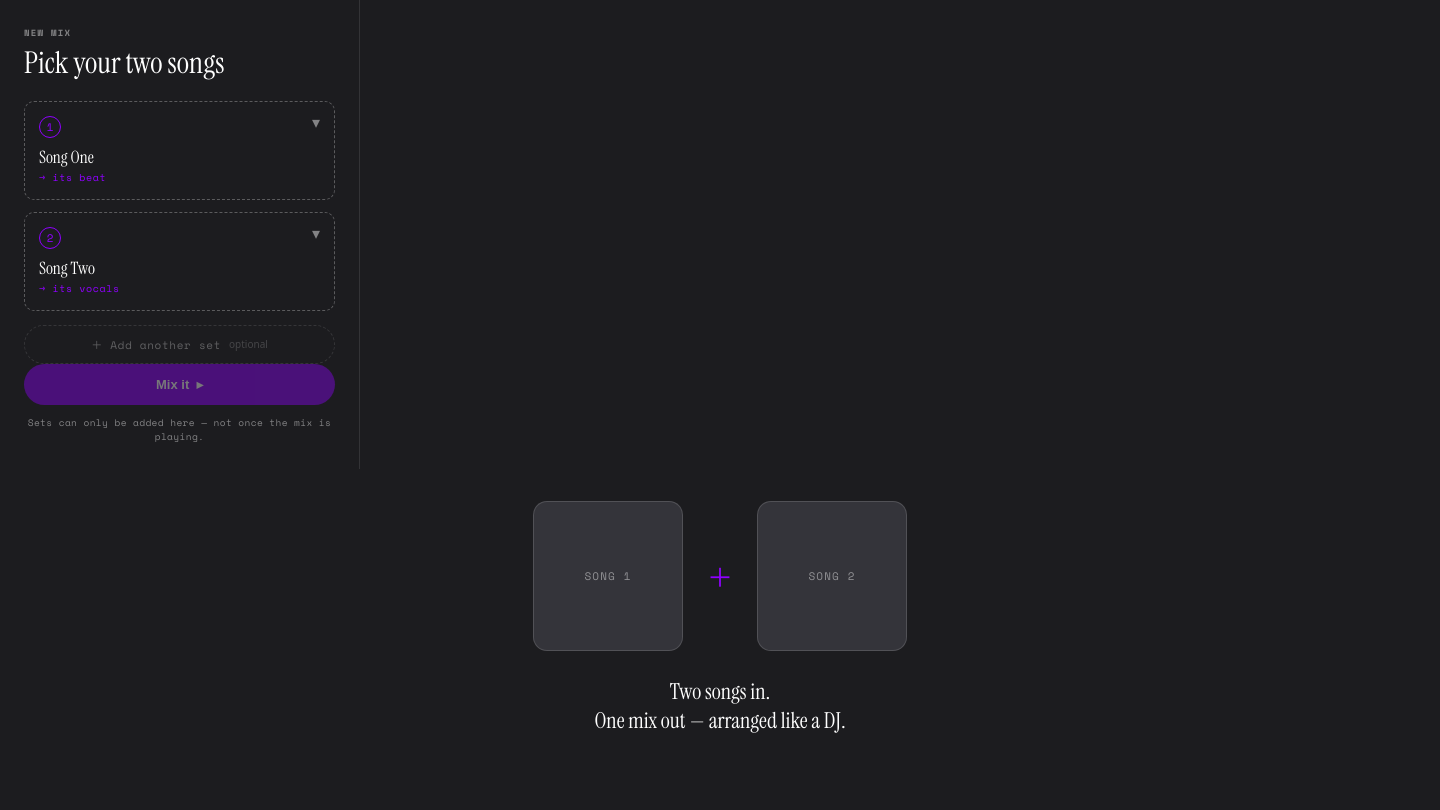
Test case: adding a second mix shows a running order and switches the button to 'Build the set'
The width and height of the screenshot is (1440, 810).
Click the button with test id "song-slot-1".
click(66, 156)  # box [24,100,335,200]
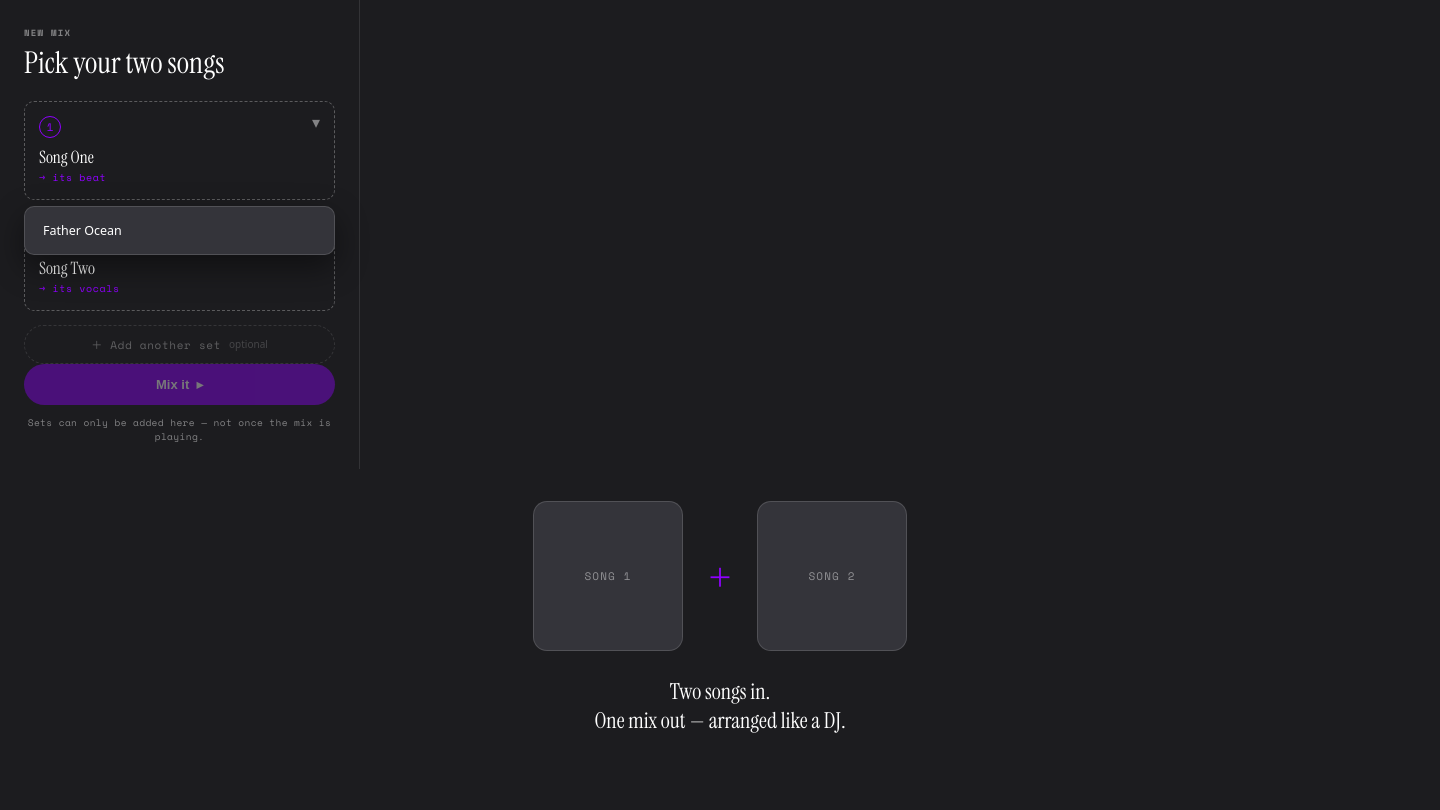
Click the option "Father Ocean".
click(82, 230)  # box [31,212,328,248]
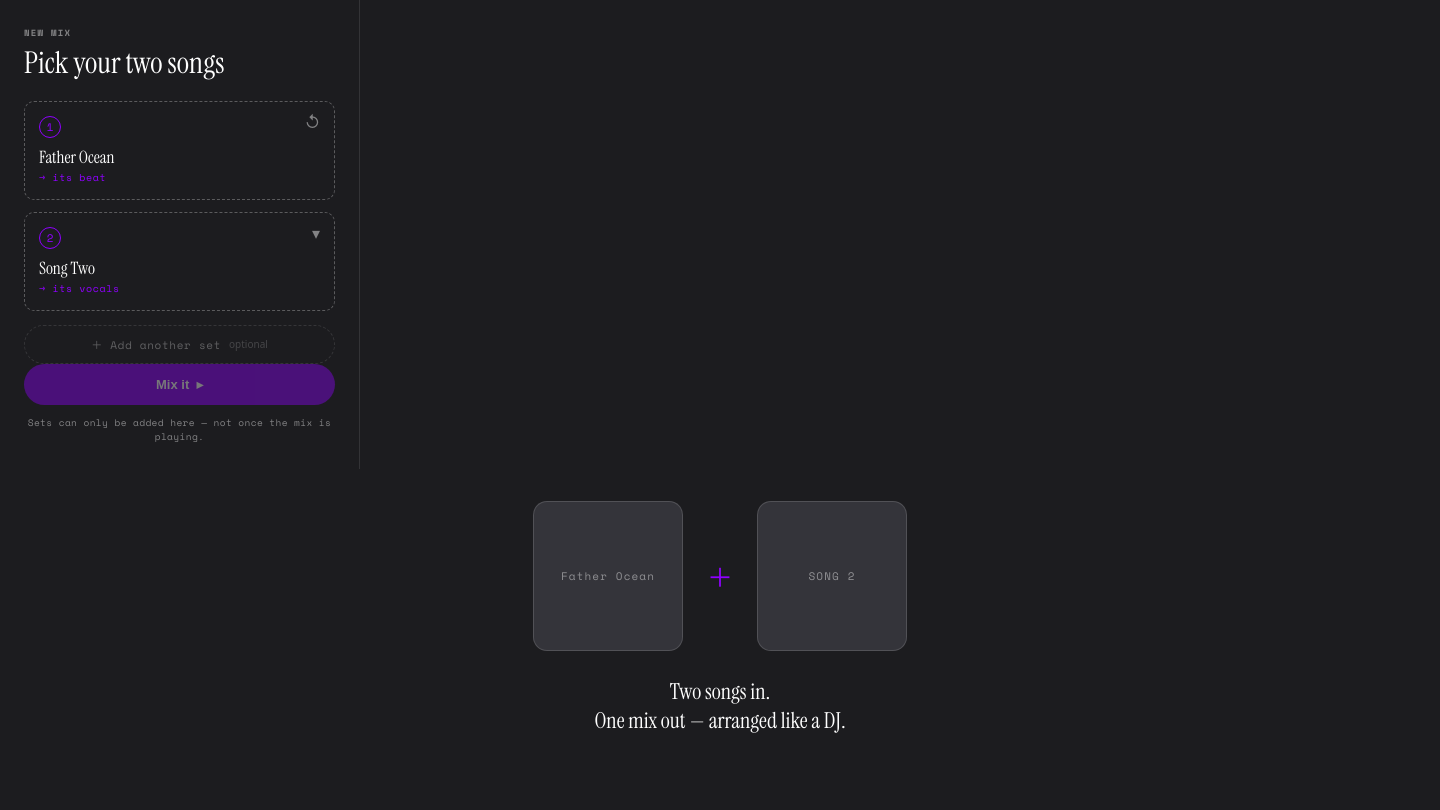
Click the button with test id "song-slot-2".
click(67, 268)  # box [24,212,335,310]
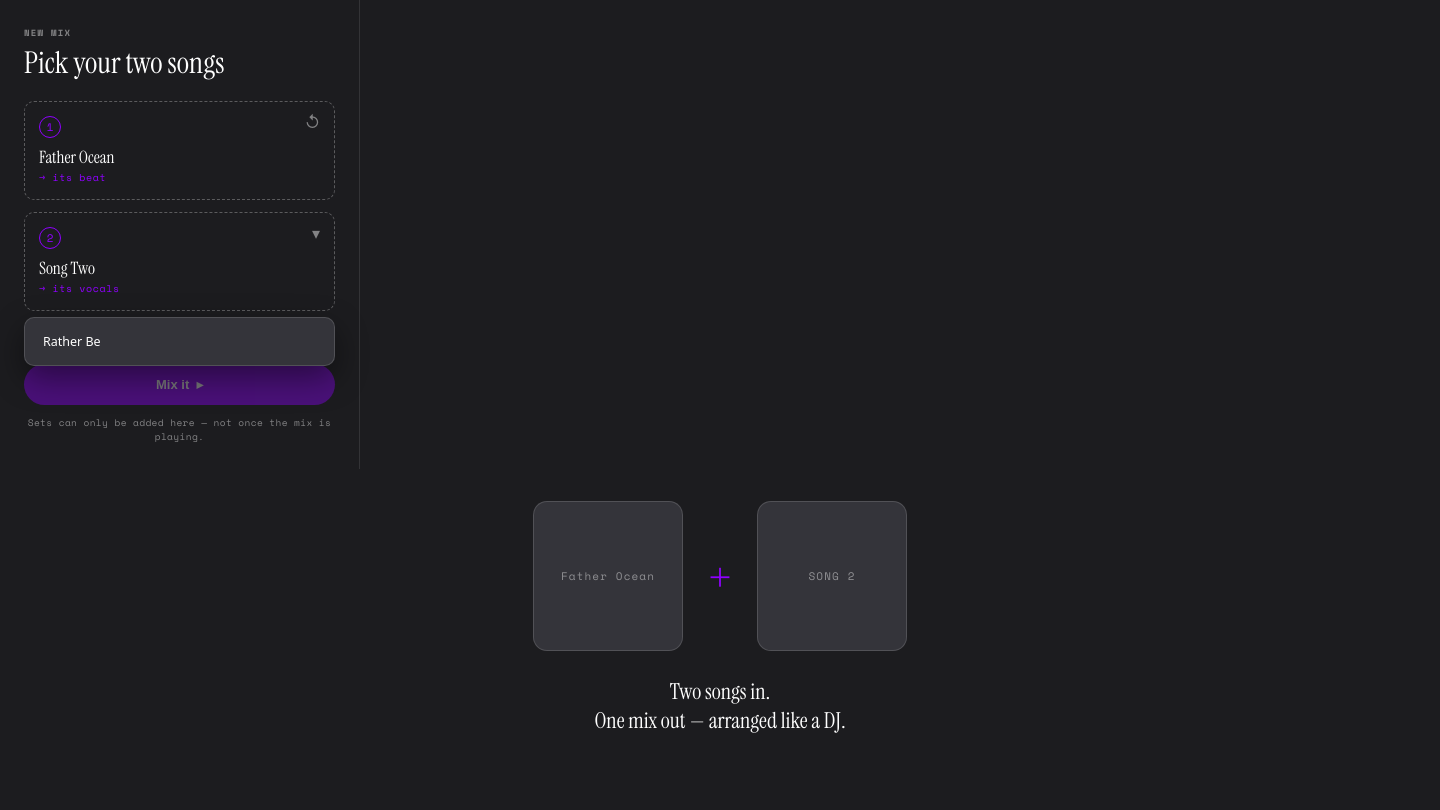
Click the option "Rather Be".
click(72, 341)  # box [31,324,328,358]
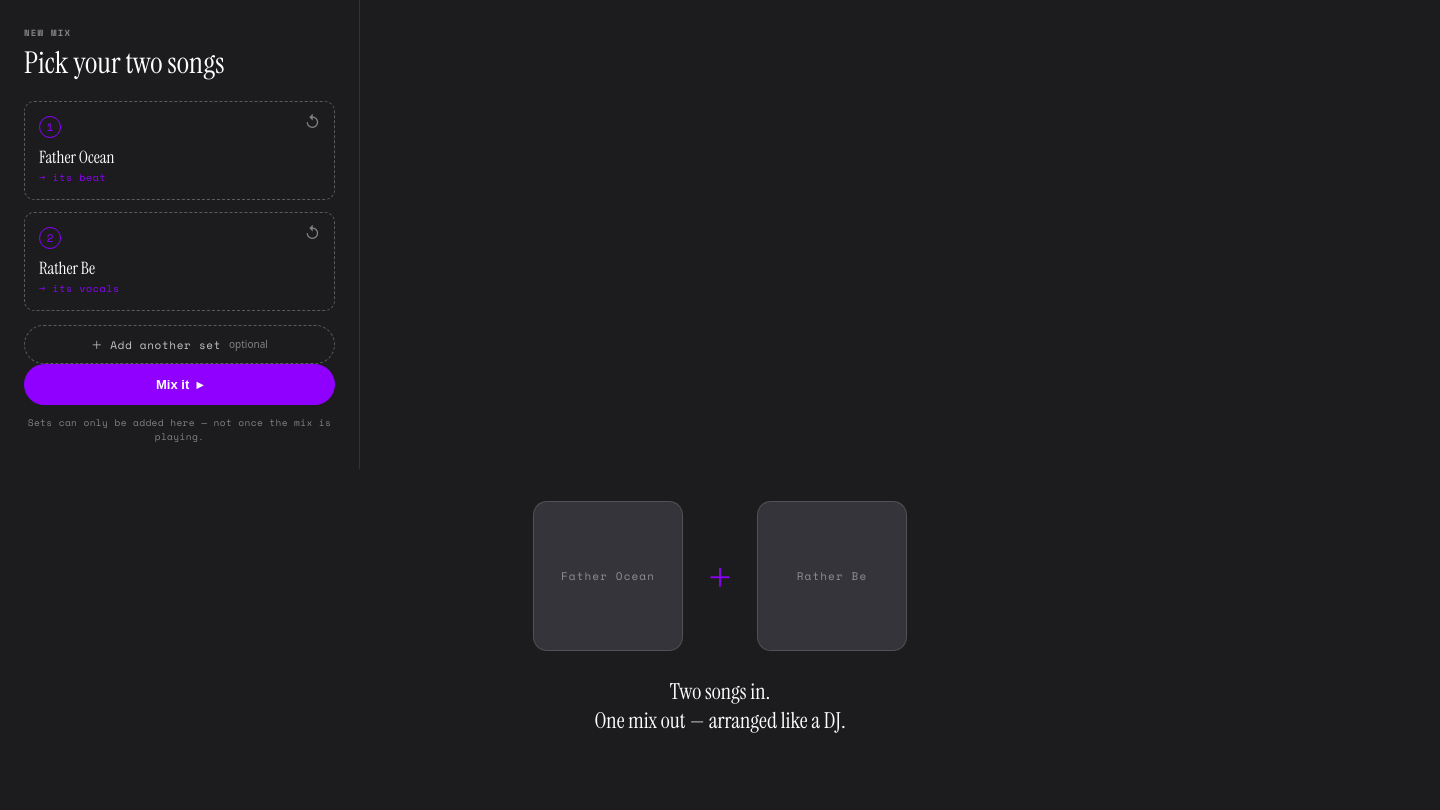
Click the button with test id "add-set".
click(180, 344)  # box [24,324,335,364]
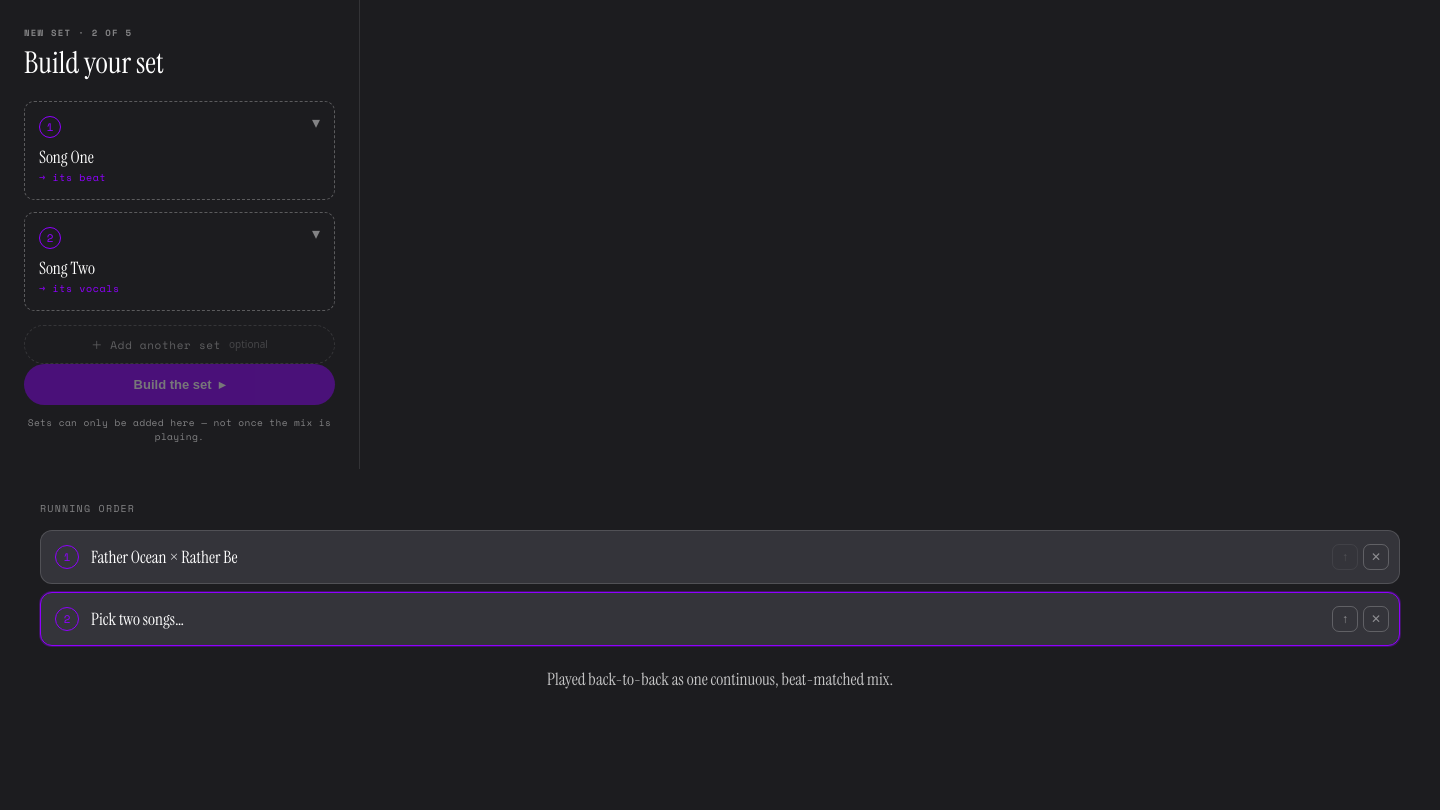
Result: the element with test id "set-card-1" is shown at [40,530,1400,584]
Result: the element with test id "set-card-2" is shown at [40,592,1400,646]
Result: the button "Build the set ▸" is shown at [24,364,335,404]
